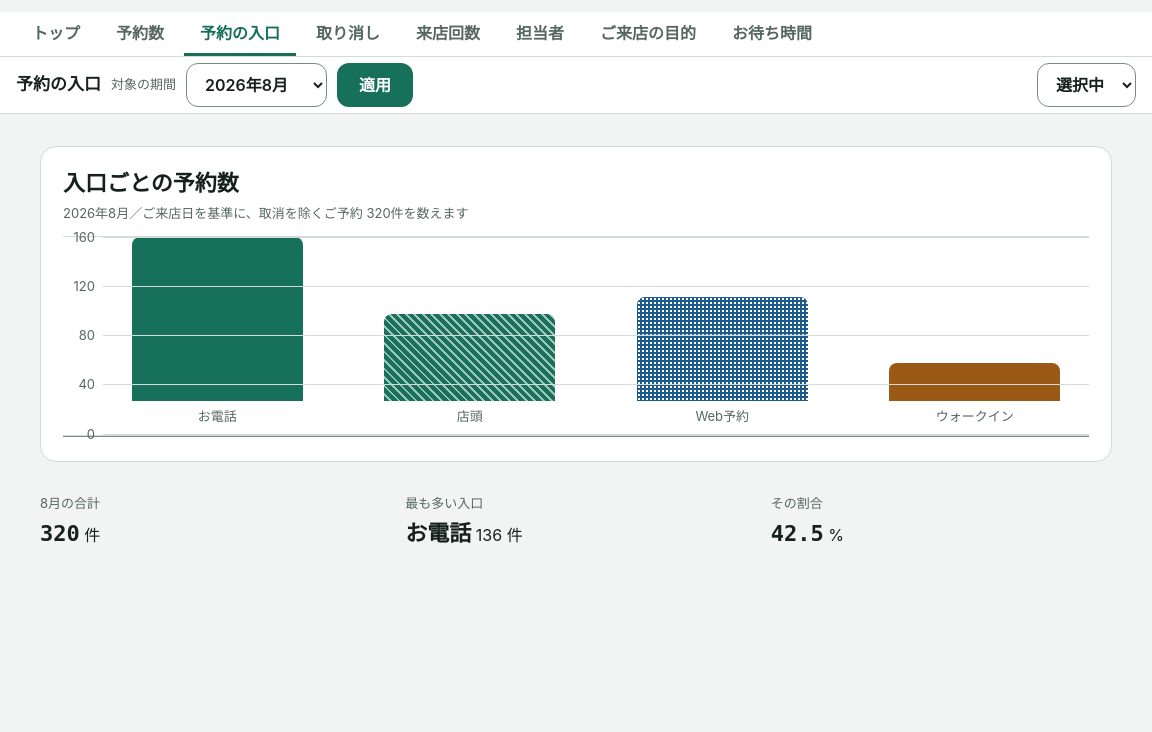
Test case: AnalyticsScreen › 後から適用した結果を、先に始めた読み込みが上書きしない
Select "2026年7月" in the dropdown named "対象の期間". click: (256, 85)
box: [186,63,327,107]
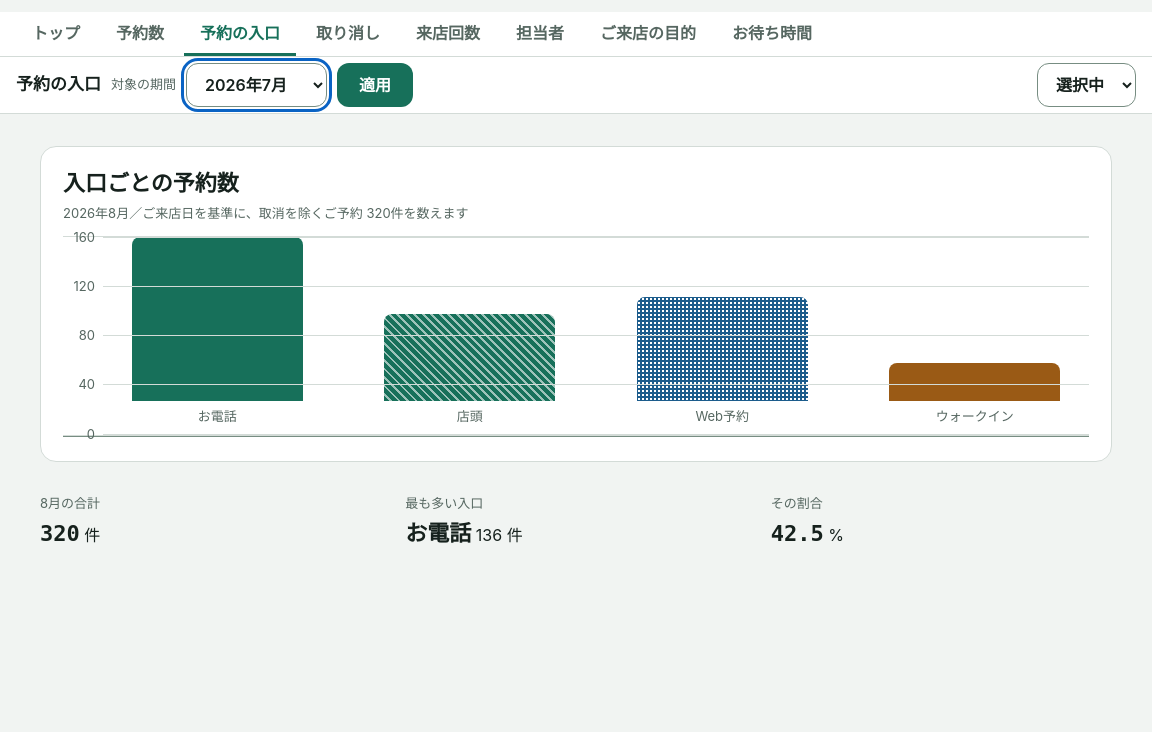
Click the button "適用". click: (375, 85)
box: [337,63,413,107]
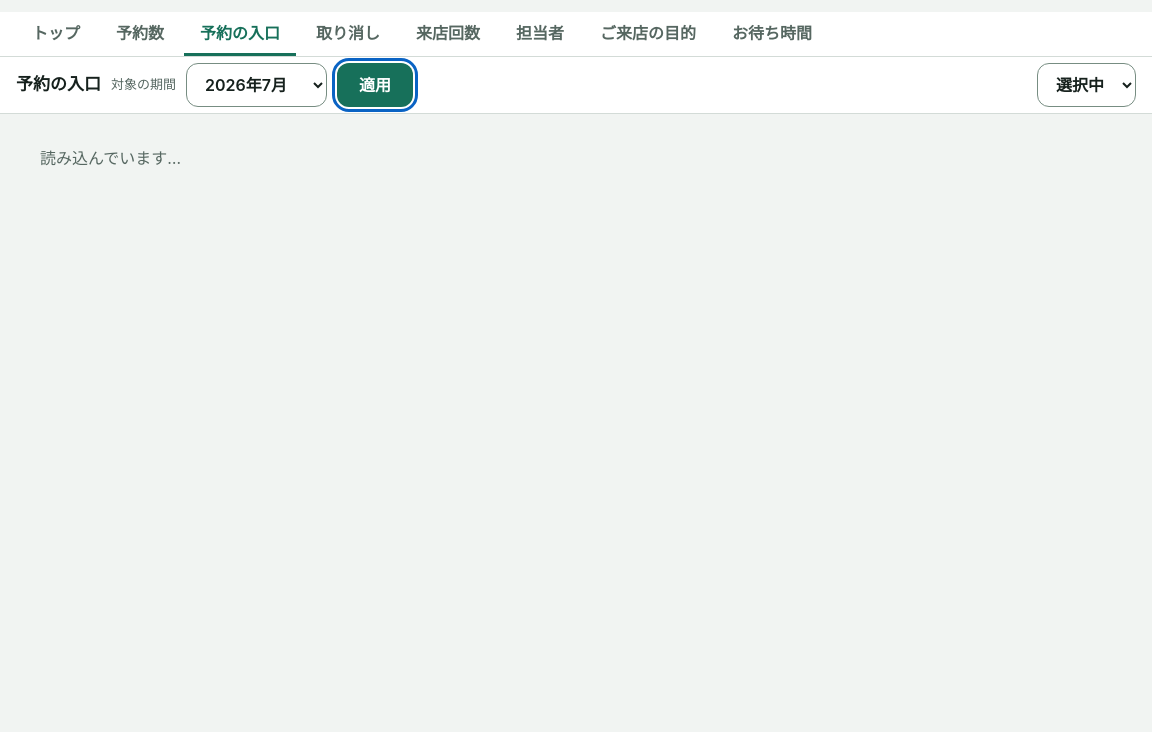
Select "2026年6月" in the dropdown named "対象の期間". click: (256, 85)
box: [186,63,327,107]
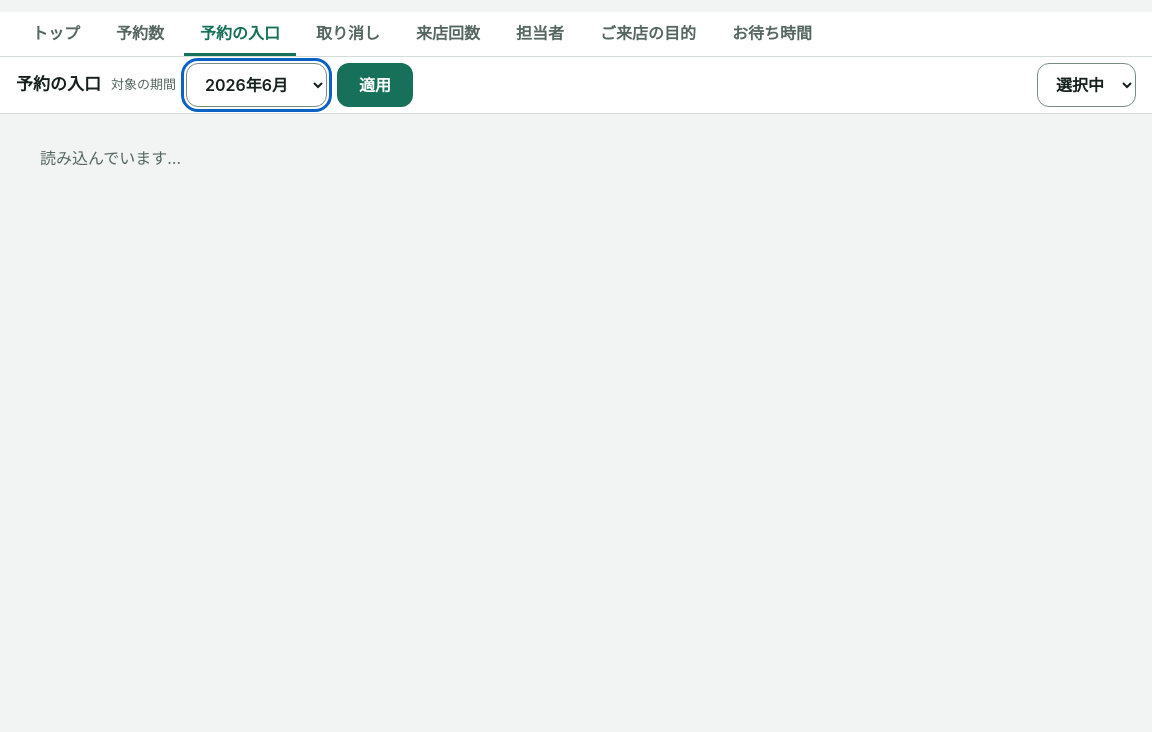
Click the button "適用". click: (375, 85)
box: [337,63,413,107]
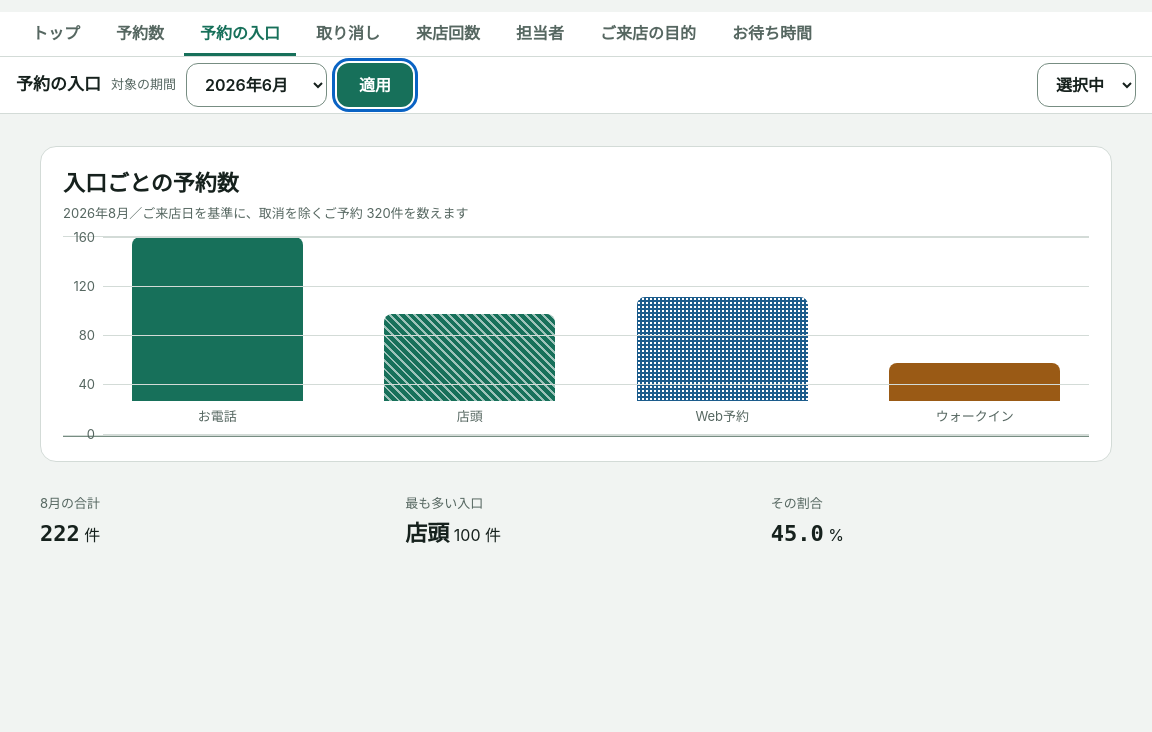
Expected: the text "222" is shown, [40,521,80,546]
